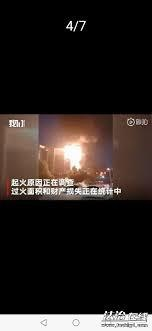fire: (63, 144, 81, 169)
